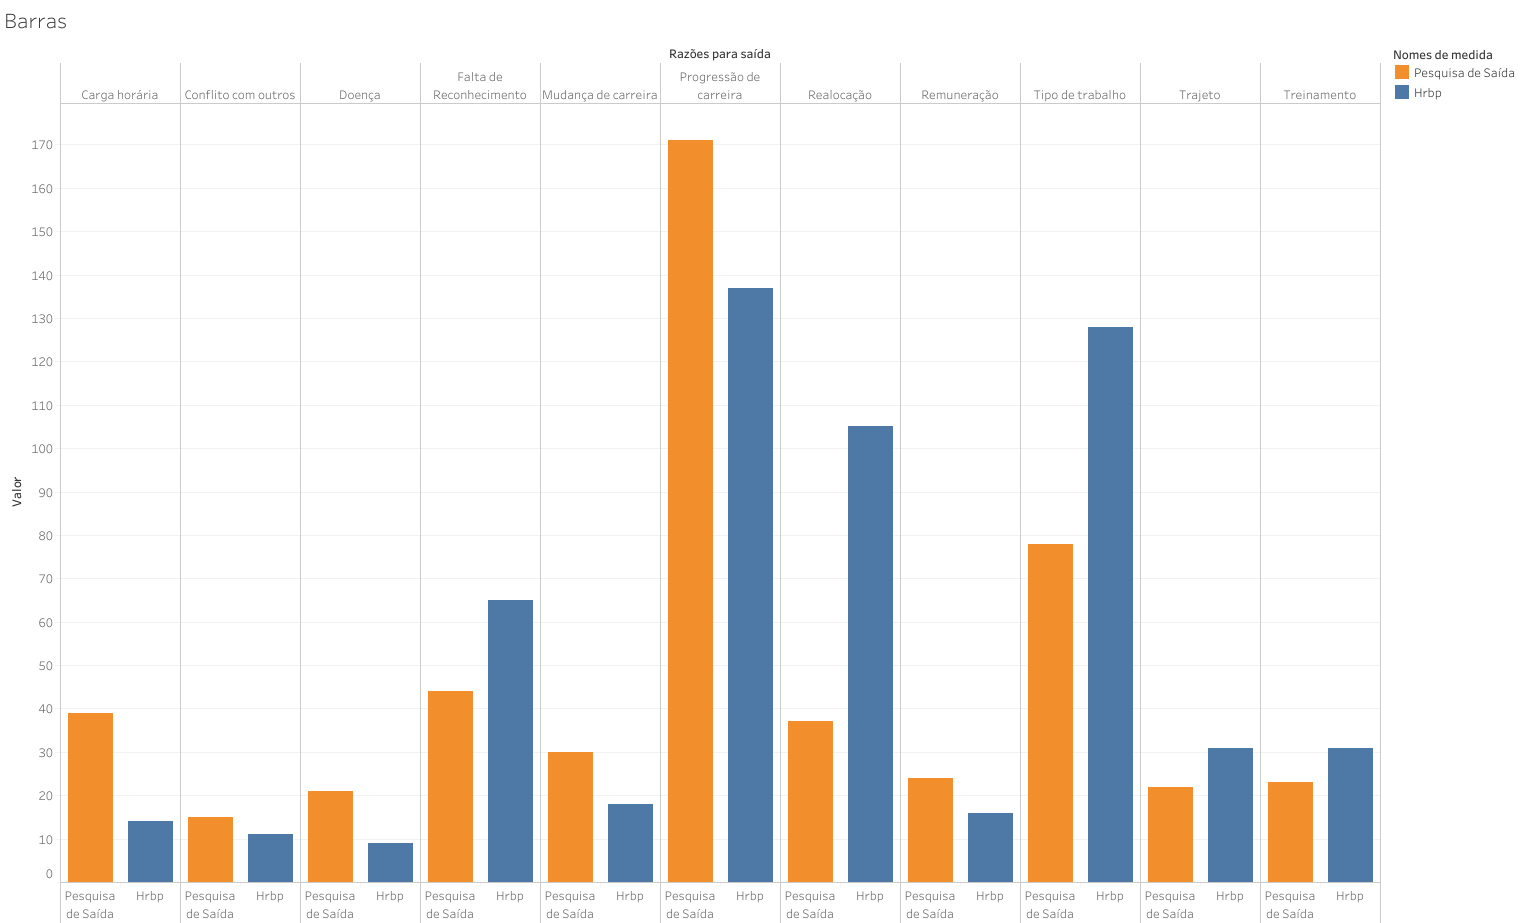

What the dashboard file says about the page in this screenshot:
{"tool":"tableau","page":{"name":"Painel 3","canvas":[1000,800],"ordinal":2},"visuals":[{"type":"worksheet","title":"Barras","mark":"Automatic","cols":["Razões para saída"],"box":[8,8,984,525]},{"type":"text","box":[8,533,801,259]},{"type":"legend","title":"Barras","param":"[federated.05tfhy30yq1mx81fdck2e0lxcqmv].[:Measure Names]","box":[809,533,183,67]}]}

Visuals, with their boxes on the page's 1000x800 design canvas (x1, y1, x2, y2). These are canvas units, not pixel positions in the 1532x923 screenshot, which may show the page scaled, cropped or inside an application window:
"Barras" worksheet: (x1=8, y1=8, x2=992, y2=533)
text: (x1=8, y1=533, x2=809, y2=792)
"Barras" legend: (x1=809, y1=533, x2=992, y2=600)
